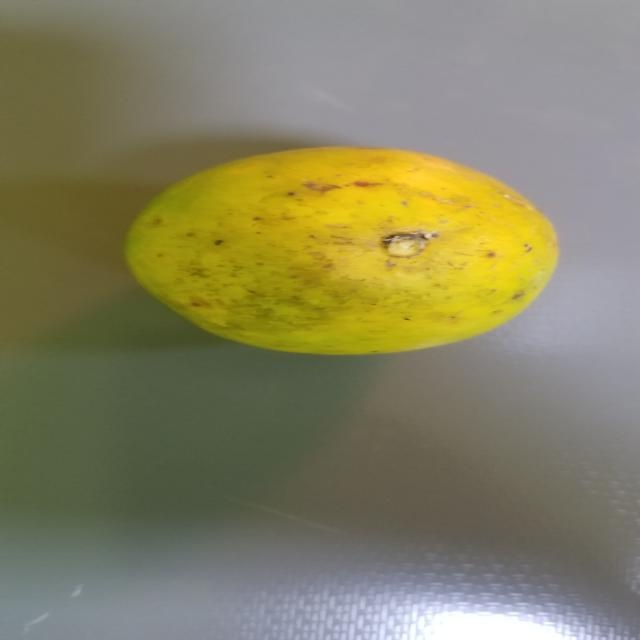agrume: (104, 137, 584, 359)
